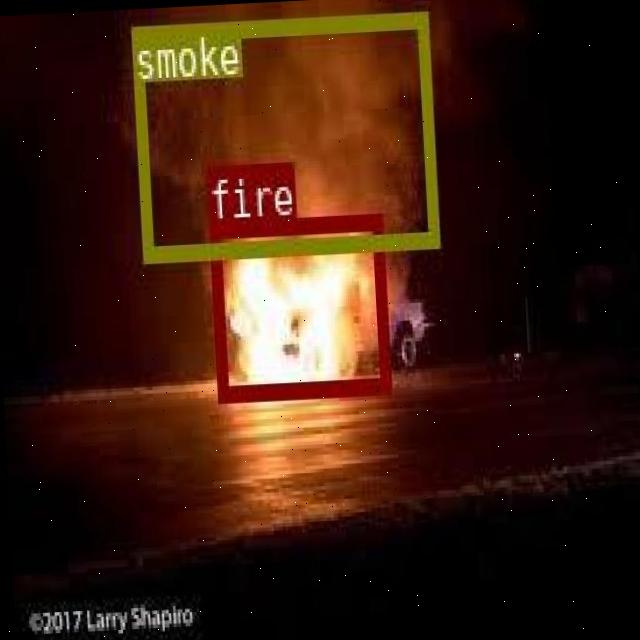fire: (208, 212, 390, 398)
smoke: (130, 9, 438, 261)
